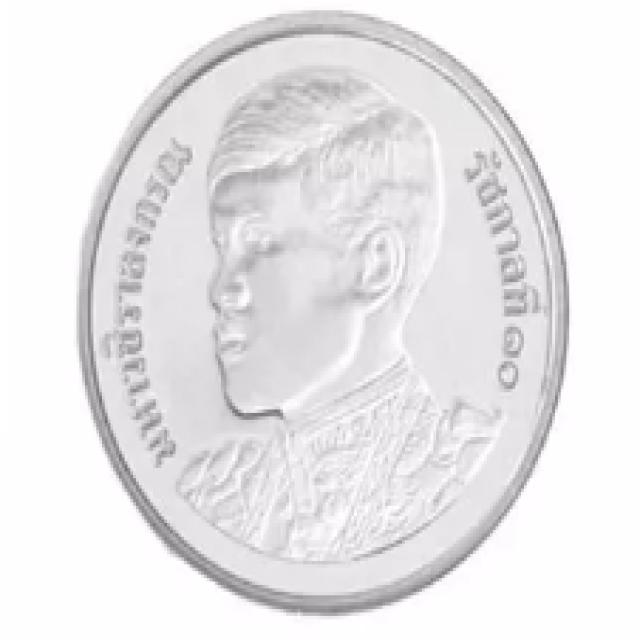1 Bath: (62, 2, 583, 638)
